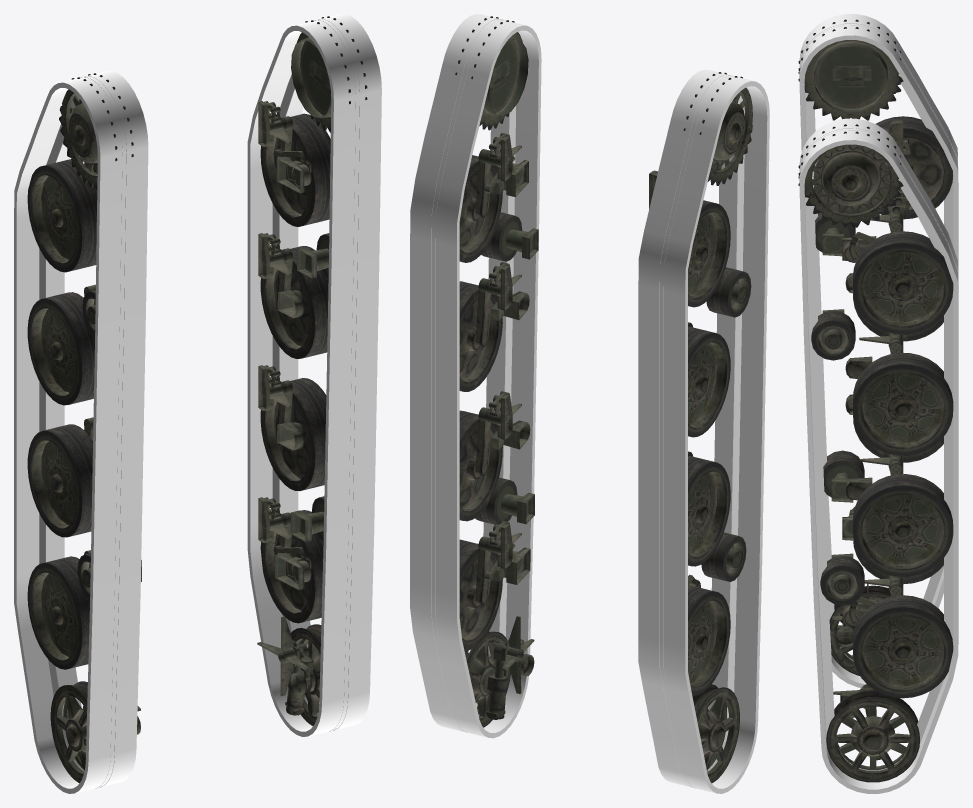
The model's file is Chassis.glb.
3 views of the same model, side by side, from view 1: azimuth 30°, elevation 25°; view 2: azimuth 150°, elevation 25°; view 3: azimuth 270°, elevation 25° (orthographic). The views are drawn at different scales.
Parts seen in each view (by area): view 1: set_0_group_0, set_1_group_0, set_3_group_0, set_2_group_0; view 2: set_0_group_0, set_1_group_0, set_3_group_0, set_2_group_0; view 3: set_3_group_0, set_1_group_0, set_2_group_0, set_0_group_0.
Part boxes in pixels (x1,y1,x2,y2): set_0_group_0: (14,71,148,793); set_1_group_0: (247,14,381,736); set_3_group_0: (257,16,367,725); set_2_group_0: (27,73,141,782); set_0_group_0: (638,69,769,793); set_1_group_0: (410,14,541,738); set_3_group_0: (455,16,538,727); set_2_group_0: (649,72,752,782); set_3_group_0: (798,124,953,782); set_1_group_0: (799,118,958,793); set_2_group_0: (798,19,952,675); set_0_group_0: (799,14,958,687).
Bounding box in the file's own units: 2.23 × 5.4 × 1.2.
Materials: 4 (2 with a texture image).
